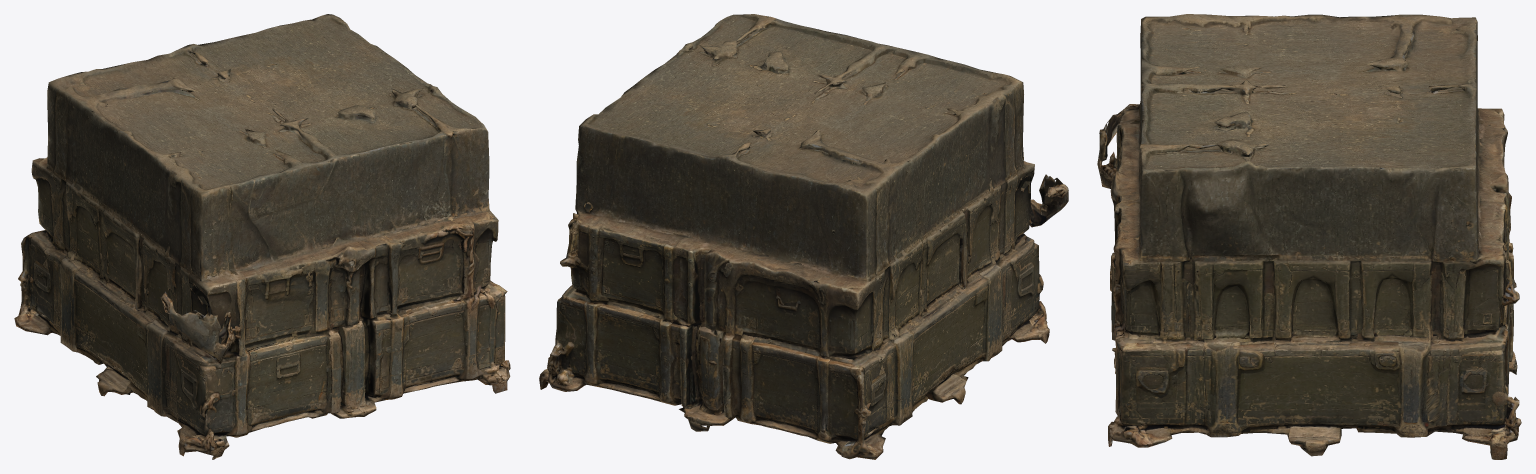
The model's file is BK_TarpCargo.fbx.
3 renders of one model, left to right at view 1: azimuth 30°, elevation 25°; view 2: azimuth 150°, elevation 25°; view 3: azimuth 270°, elevation 25°, orthographic. The views are drawn at different scales.
Visible parts, largest first — view 1: texture_mapping; view 2: texture_mapping; view 3: texture_mapping.
Boxes of the visible parts, x1,y1,x2,y2 form: texture_mapping: [14, 14, 510, 459]; texture_mapping: [539, 14, 1068, 459]; texture_mapping: [1097, 14, 1521, 459].
Bounding box in the file's own units: 0.9477 × 0.9188 × 0.7139.
Materials: 1 (1 with a texture image).
